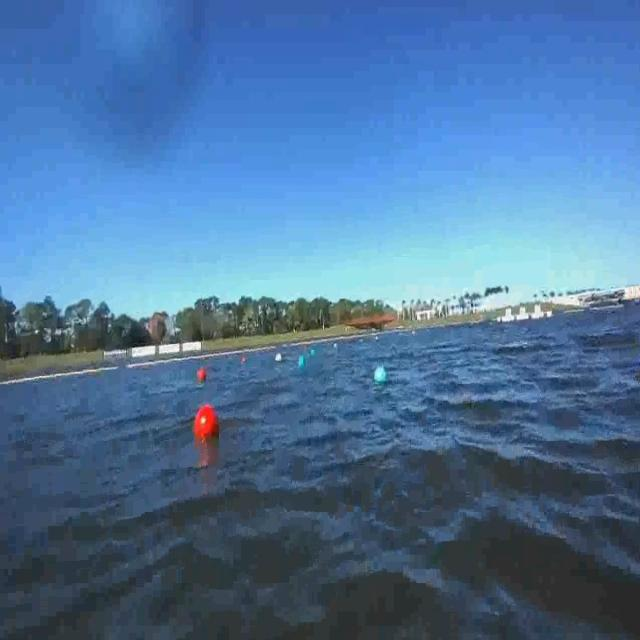green-buoy: (372, 365, 387, 388), (298, 356, 306, 372)
red-buoy: (196, 406, 219, 446), (195, 364, 208, 385)
